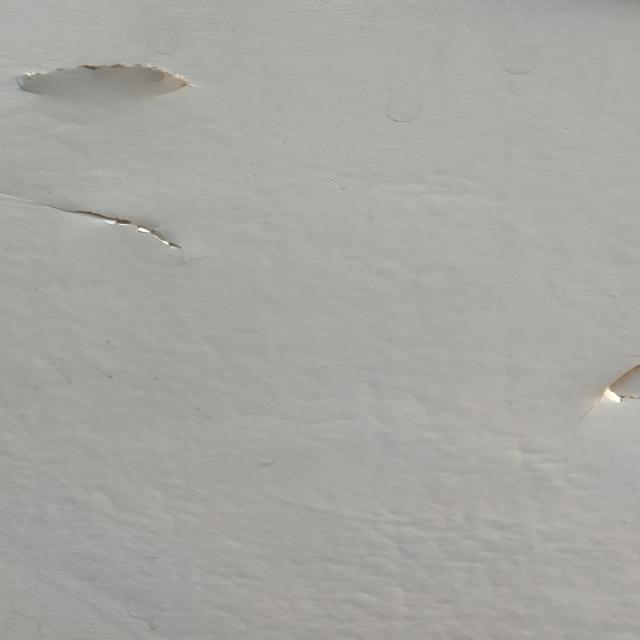Scratches: (28, 205, 222, 261), (16, 60, 214, 109), (601, 346, 640, 411)
